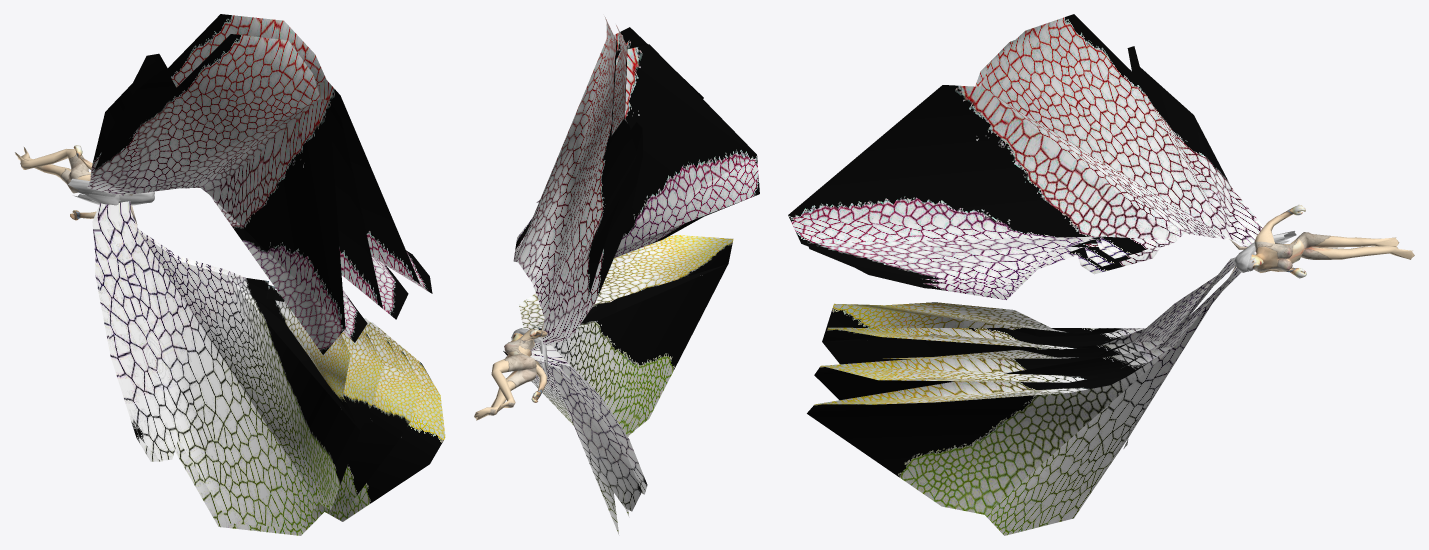
The model's file is angel_000202.obj.
The picture shows the model from 3 angles, left to right: view 1: azimuth 30°, elevation 25°; view 2: azimuth 150°, elevation 25°; view 3: azimuth 270°, elevation 25°; orthographic projection. The views are drawn at different scales.
Parts seen in each view (by area): view 1: wings_Plane.001, body.001_omino.012, hair.003_omino.013; view 2: wings_Plane.001, body.001_omino.012; view 3: wings_Plane.001, body.001_omino.012.
Boxes of the visible parts, x1,y1,x2,y2 form: wings_Plane.001: [87, 14, 445, 535]; body.001_omino.012: [15, 145, 137, 224]; hair.003_omino.013: [68, 178, 154, 205]; wings_Plane.001: [503, 16, 759, 535]; body.001_omino.012: [474, 319, 547, 420]; wings_Plane.001: [788, 14, 1263, 535]; body.001_omino.012: [1229, 205, 1414, 278].
Bounding box in the file's own units: 3.29 × 8.44 × 9.46.
